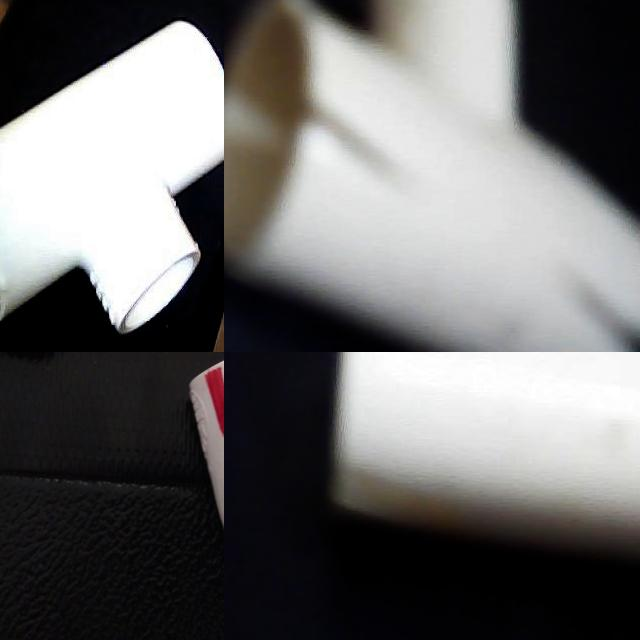Defective: (282, 93, 413, 229), (566, 266, 640, 352), (34, 551, 105, 608), (11, 468, 88, 501)
L Joint: (0, 444, 97, 640)
T Joint: (324, 352, 640, 577), (0, 32, 224, 336)
